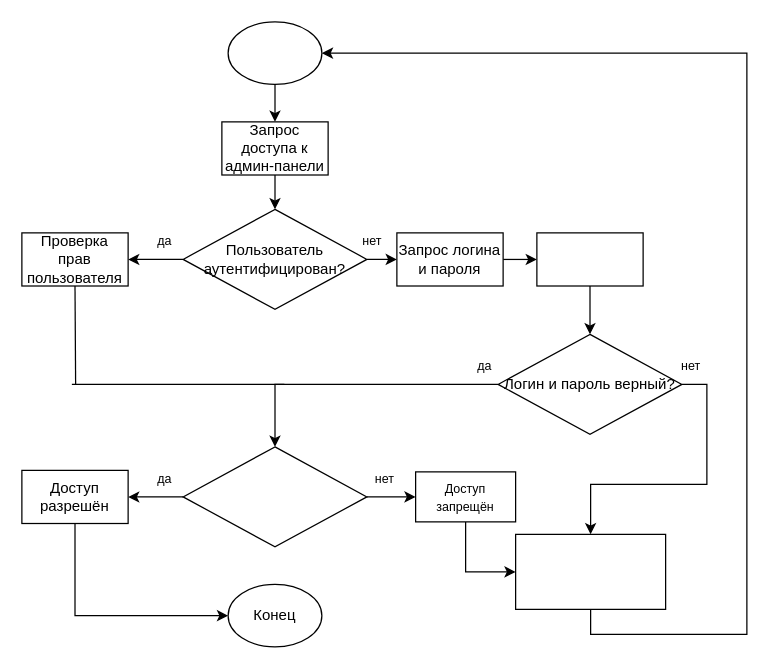
Some shapes in this 779 by 669 pixel diagram are drawn without their labels. Each missing label, with the centre of its shape:
"Введение логина и пароля" belongs at (589,259).
"Начало" belongs at (274,52).
"Перенаправление на страницу ошибки" belongs at (590,571).
"Пользователь имеет права администратора?" belongs at (274,496).
